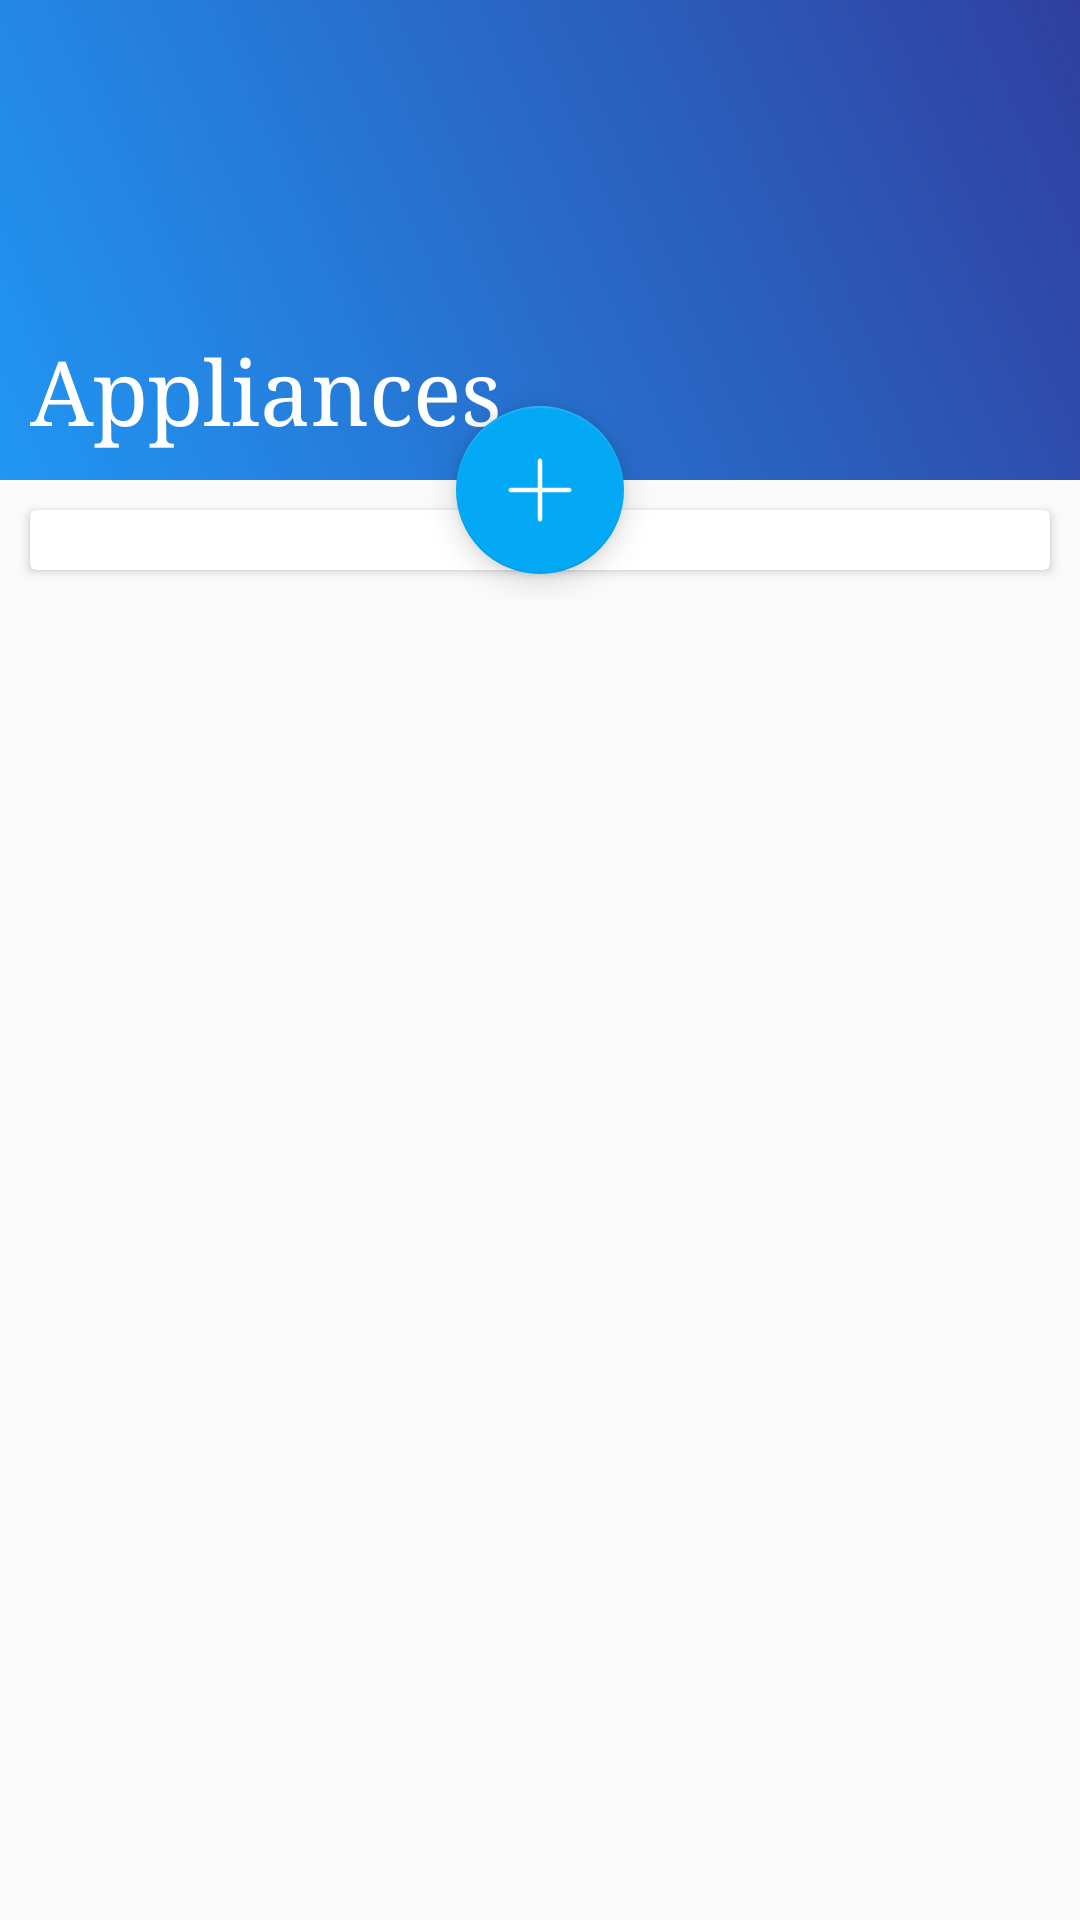

Icons on this 1080x1920 Android screen, each with the point to tap as point (x, y):
plus: point (540, 490)
